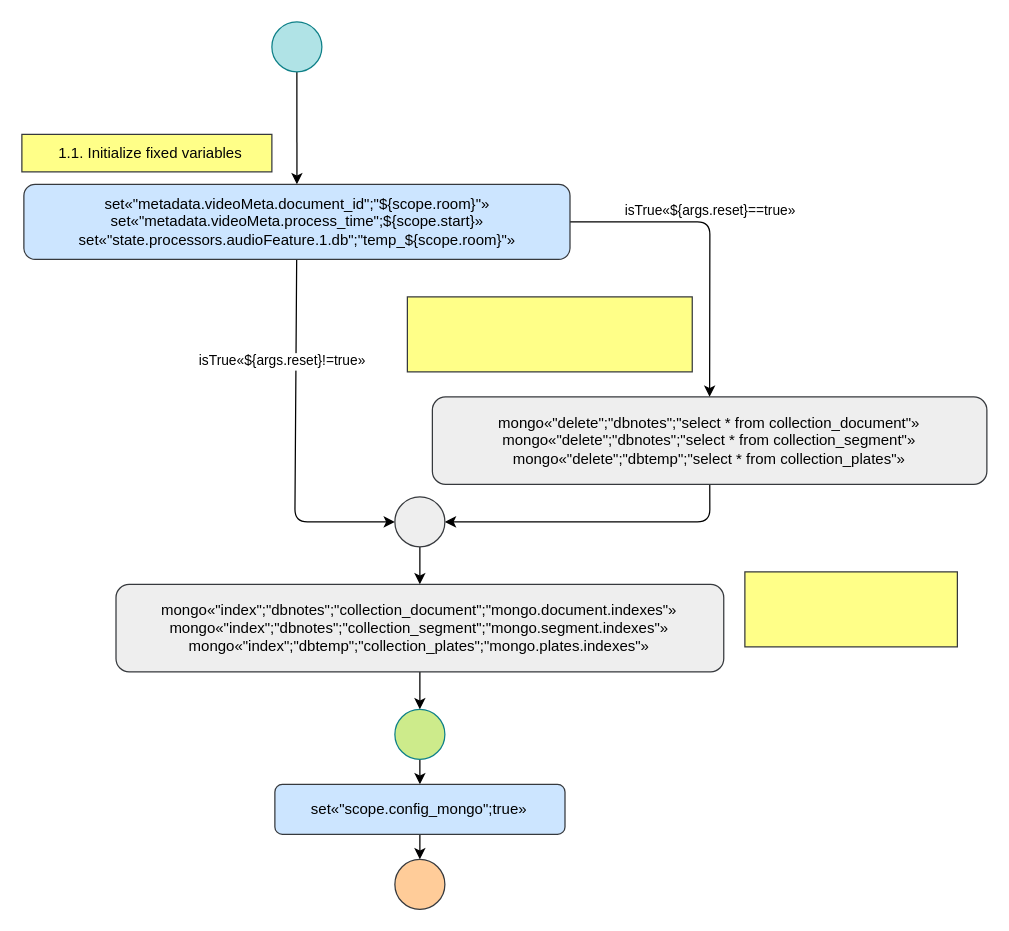
This 1009x931 diagram has some shape labels left out. The centre of each missing label's shape, as x and y in pixels:
"2.2. Alternativelly erase & create: - Mongo tables" goes at (x=549, y=334).
"3.2. Assure Mongo Collection and Indexes" goes at (x=850, y=609).
"start" goes at (x=296, y=46).
